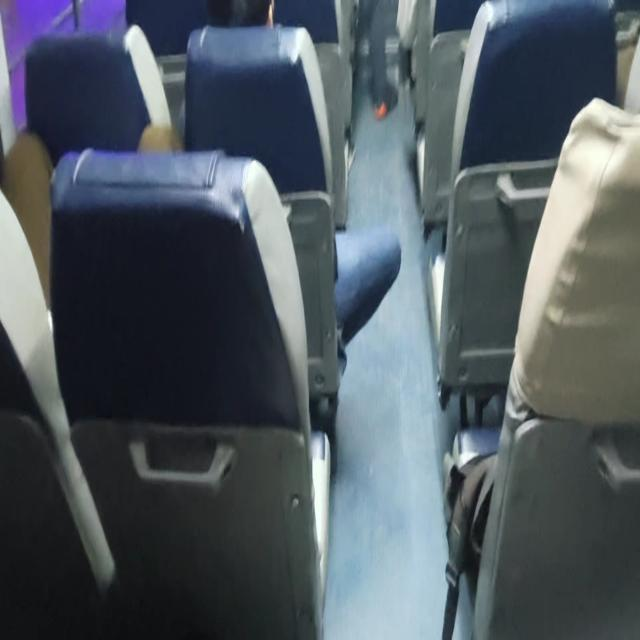person: (1, 2, 638, 636), (442, 92, 639, 637), (138, 3, 401, 376), (228, 0, 275, 28)
